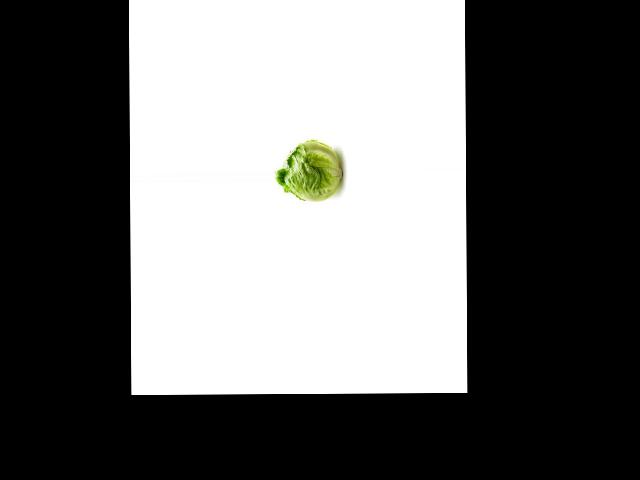lettuce: (275, 134, 345, 204)
